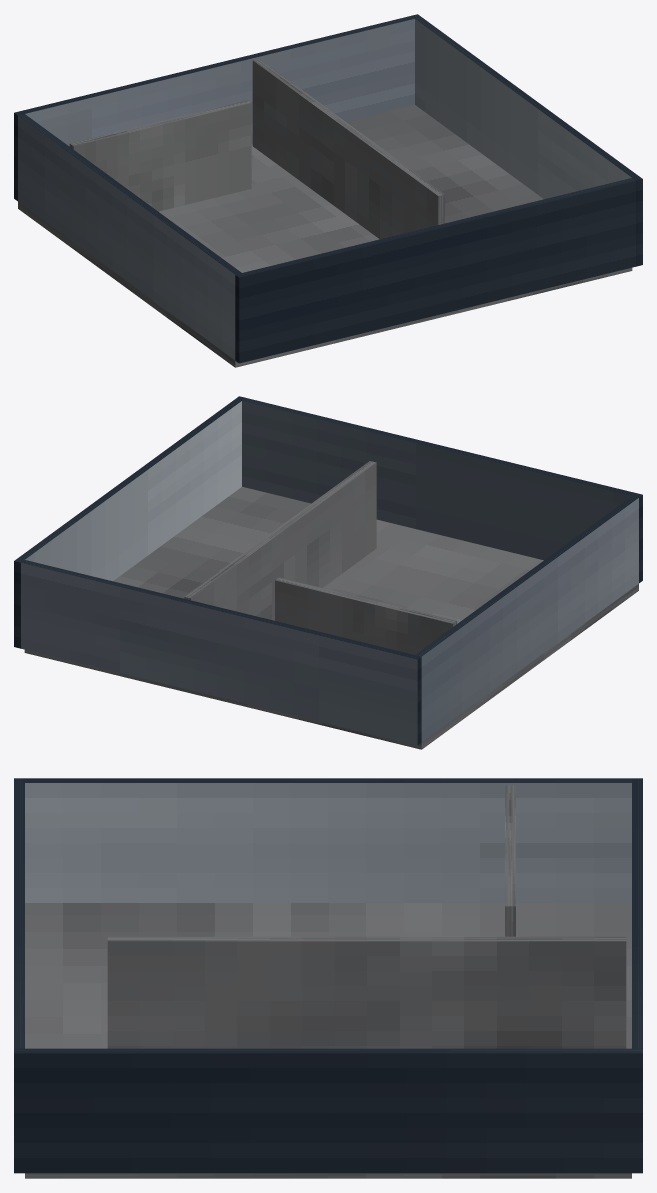
File: Level2MODEL.gltf
3 views of the same model, one above another, from view 1: azimuth 30°, elevation 25°; view 2: azimuth 150°, elevation 25°; view 3: azimuth 270°, elevation 25° (orthographic). The views are drawn at different scales.
Visible parts, largest first — view 1: mesh (×7); view 2: mesh (×7); view 3: mesh (×7).
Boxes of the visible parts, <box> form: mesh (×7): <box>14,14,642,367</box>; mesh (×7): <box>14,396,642,749</box>; mesh (×7): <box>14,778,642,1178</box>.
Bounding box in the file's own units: 7.38 × 1.62 × 7.12.
Materials: 2 (2 with a texture image).
